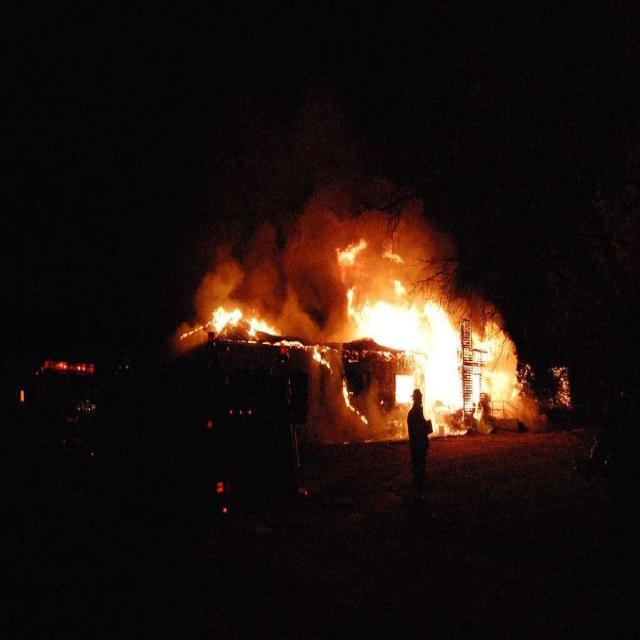Fire: (381, 316, 480, 374)
